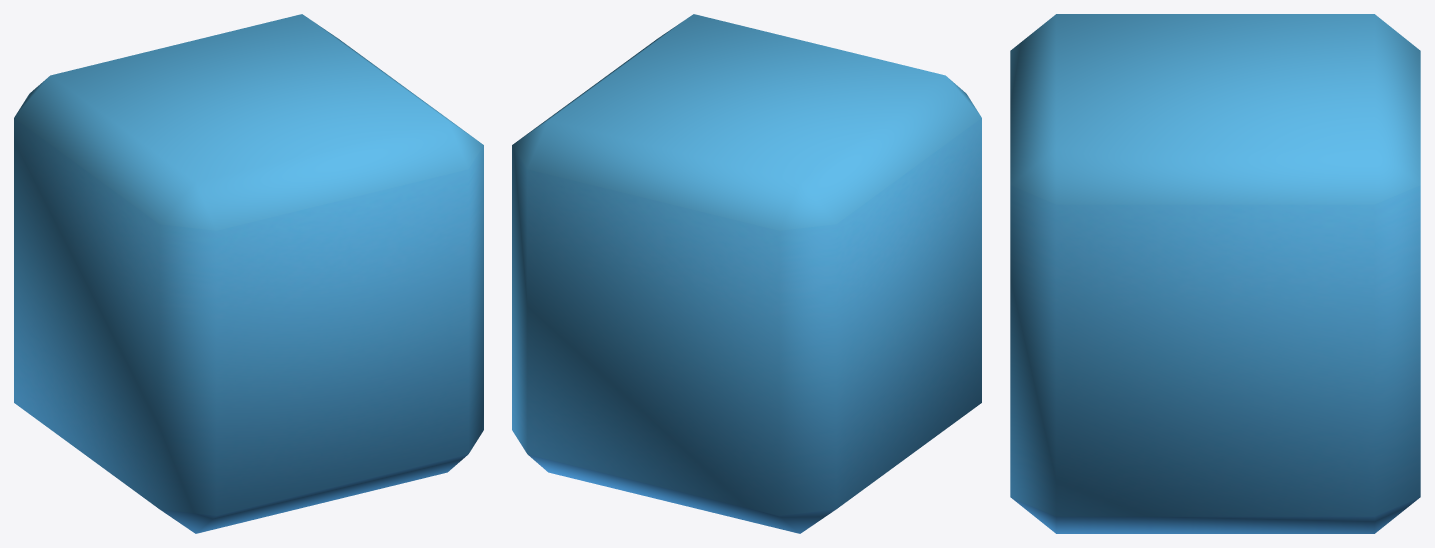
File: water_top_1x1_medium.fbx
3 renders of one model, left to right at view 1: azimuth 30°, elevation 25°; view 2: azimuth 150°, elevation 25°; view 3: azimuth 270°, elevation 25°, orthographic. The views are drawn at different scales.
Parts seen in each view (by area): view 1: water_top_1x1_medium; view 2: water_top_1x1_medium; view 3: water_top_1x1_medium.
Part boxes in pixels (<box>): water_top_1x1_medium: <box>14,14,483,533</box>; water_top_1x1_medium: <box>512,14,981,533</box>; water_top_1x1_medium: <box>1010,14,1420,533</box>.
Bounding box in the file's own units: 127 × 131 × 127.
